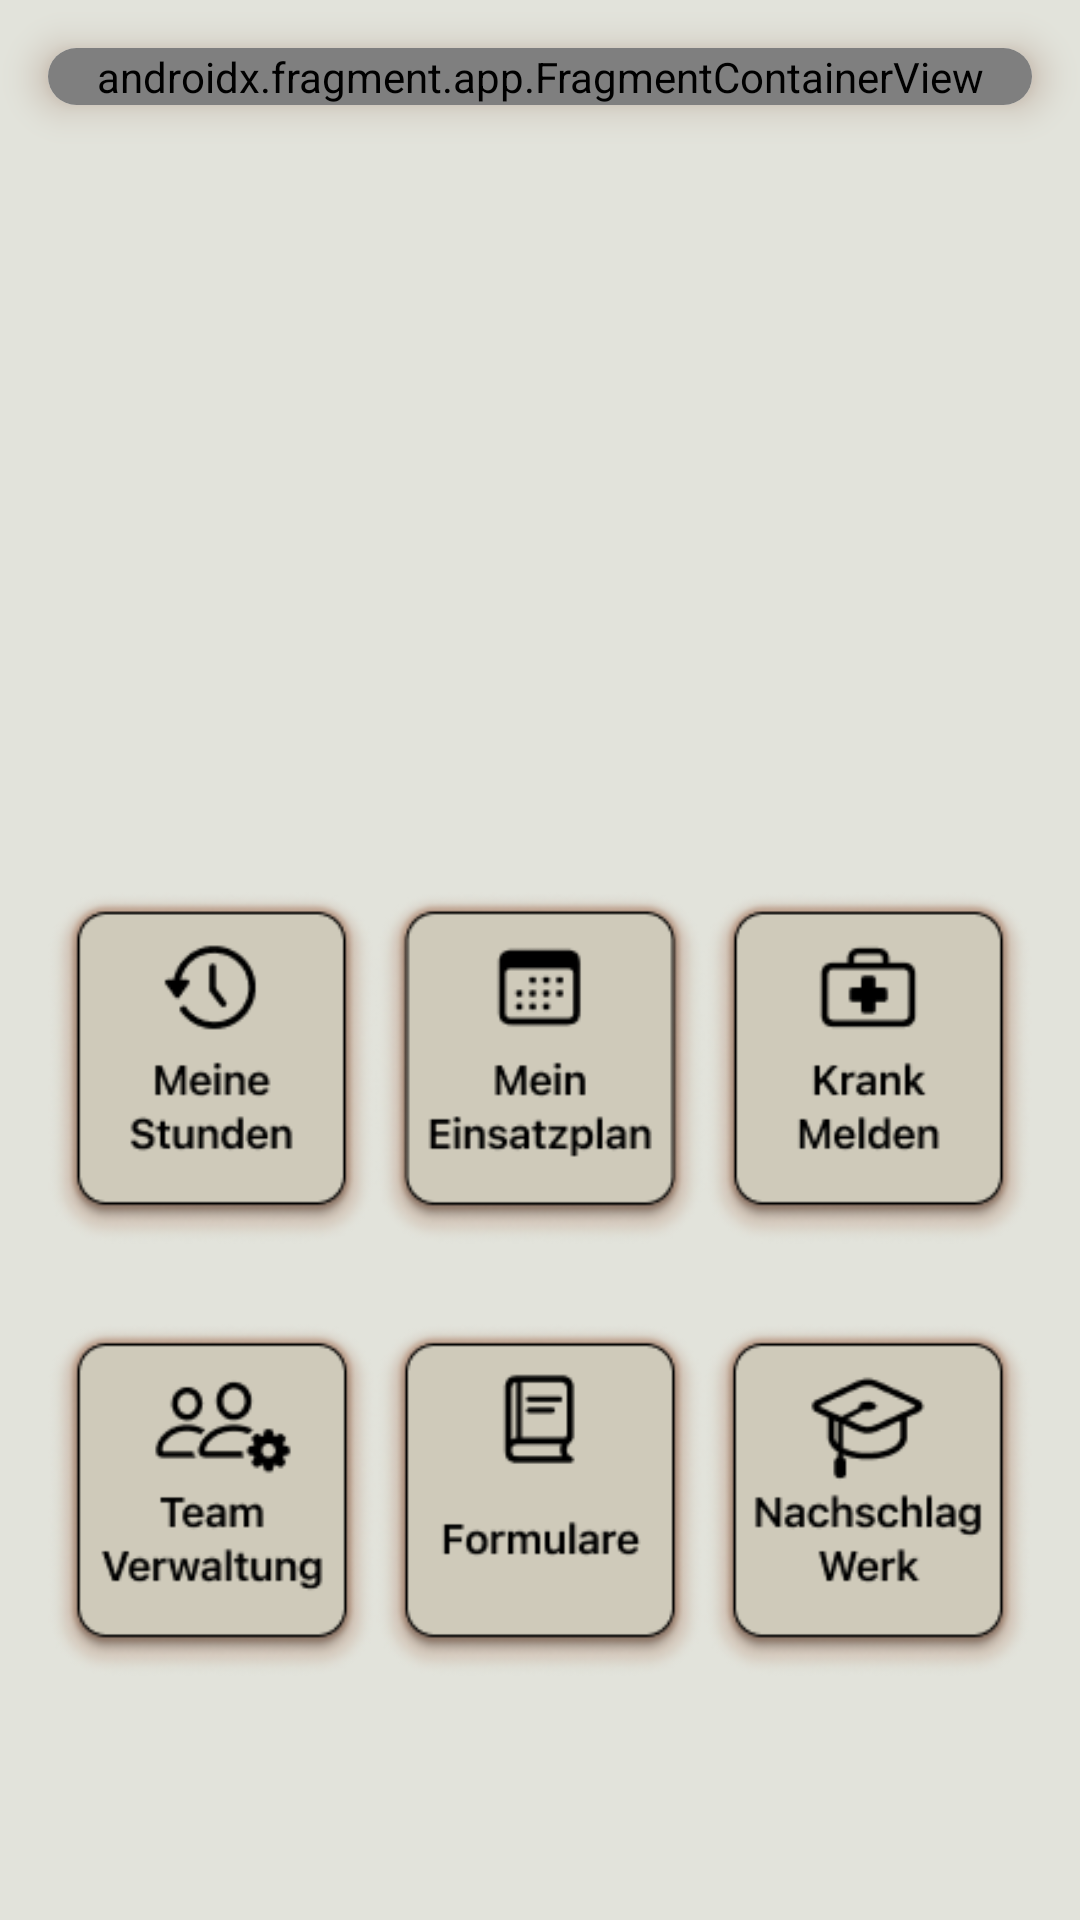

Where icons sit on this 1080×1920 app screen, as (x1, y1, x2, y2):
learn: (721, 1336, 1015, 1658)
